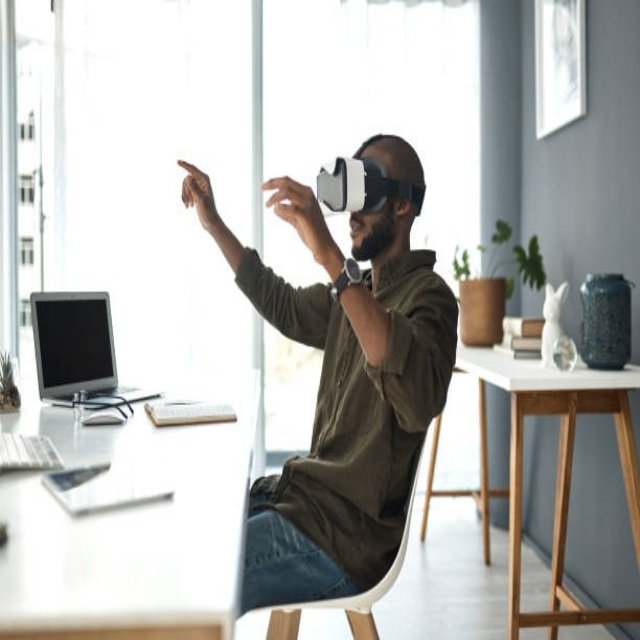Sin_guantes: (259, 173, 332, 260), (173, 154, 214, 227)
Sin_mascara: (348, 215, 366, 256)
